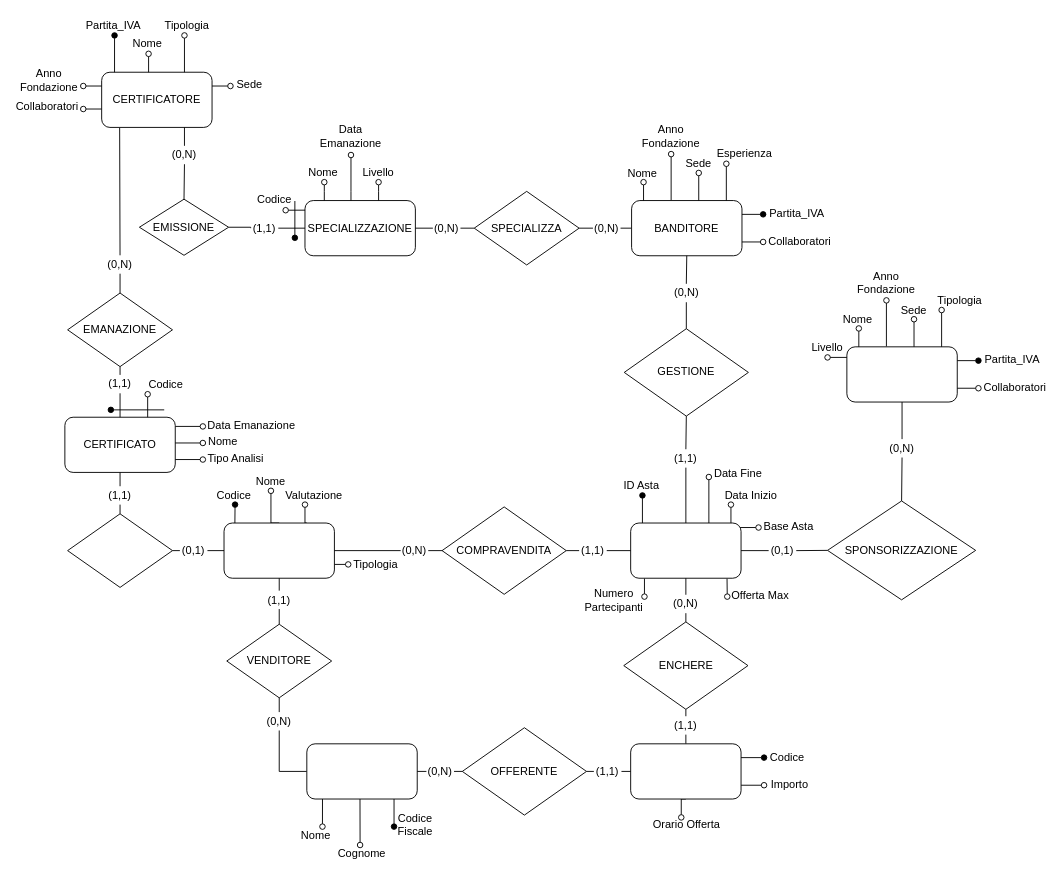
Image size: 1062x879. Some labels were removed from this diagram. The centre of each missing label's shape, as x and y in pixels:
ASTA: pixel 685 550
CERTIFICA: pixel 119 550
OFFERTA: pixel 685 771
PERSONA: pixel 361 771
PRODOTTO: pixel 278 550
SPONSOR: pixel 901 374
